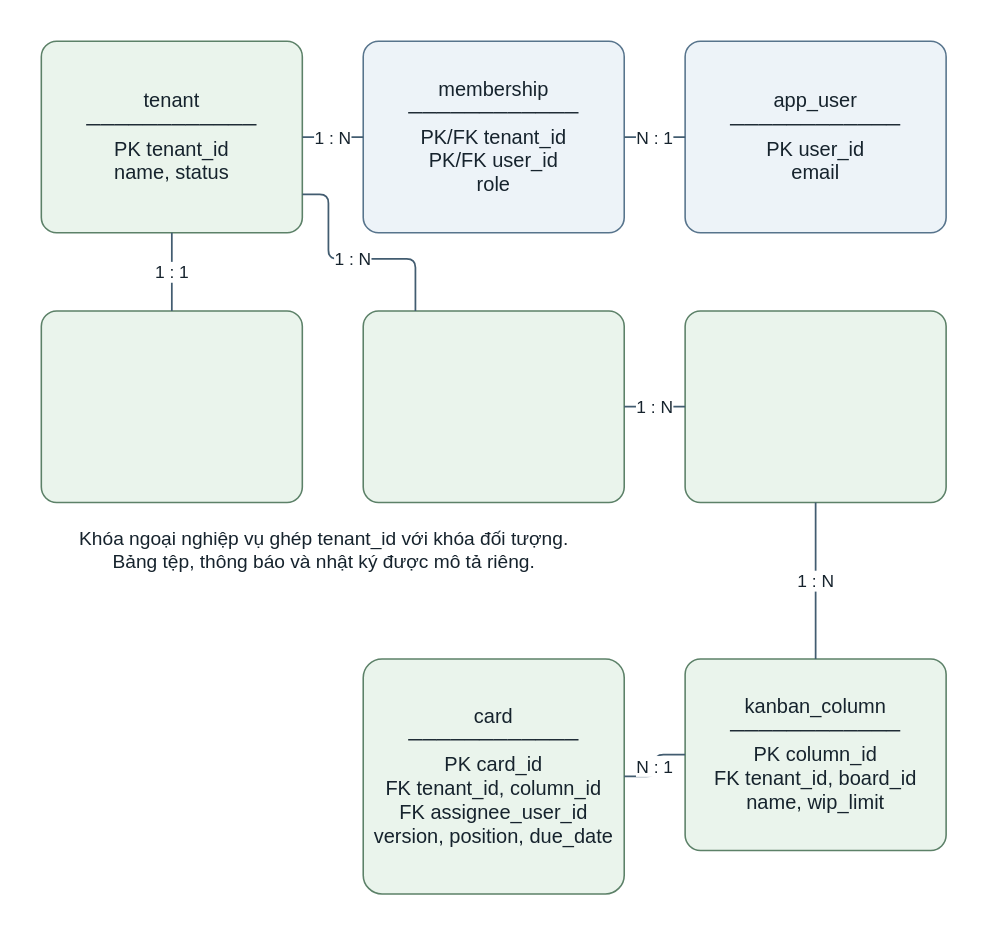
This 987x952 diagram has some shape labels left out. Each missing label, with the centre of its shape:
board ──────────── PK board_id FK tenant_id, project_id name: [815,406]
project ──────────── PK project_id FK tenant_id name: [493,406]
tenant_config ──────────── PK/FK tenant_id version ui_config, rules: [171,406]
